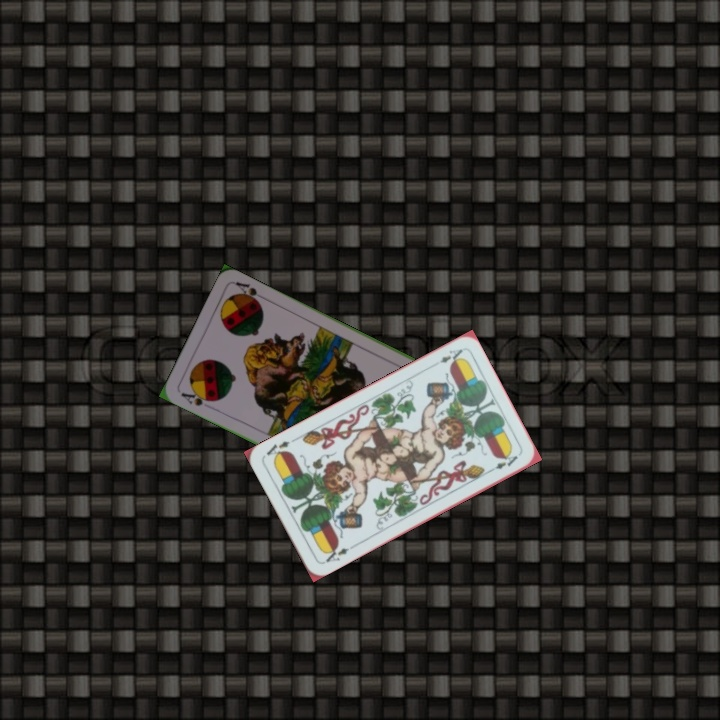EA: (319, 542, 352, 566), (436, 345, 465, 366)
SA: (177, 386, 217, 409)
